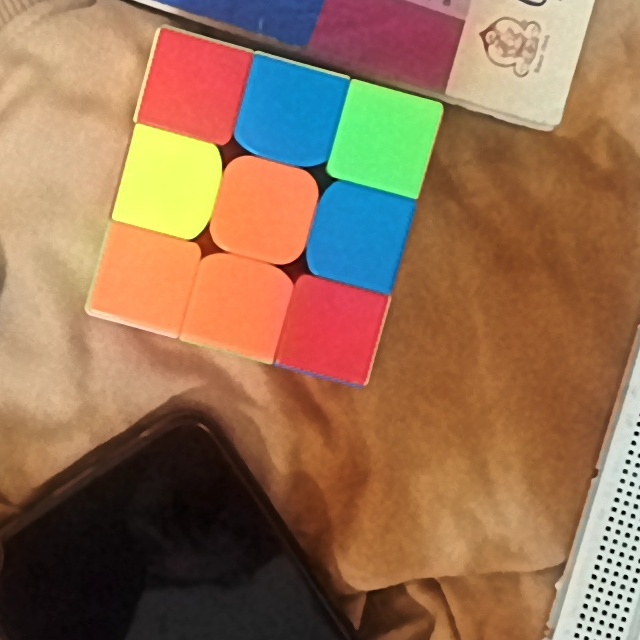tile: (248, 75, 331, 149), (154, 48, 232, 126), (224, 172, 304, 246), (132, 146, 208, 221), (295, 298, 370, 368), (350, 104, 423, 175), (323, 201, 396, 272), (107, 244, 183, 312), (199, 274, 274, 342)
